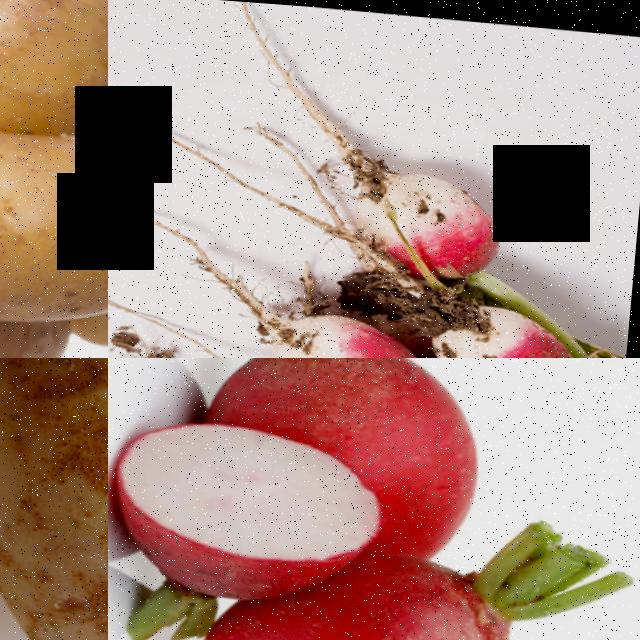potato: (0, 358, 108, 640), (0, 116, 108, 328), (0, 0, 108, 142)
radishes: (108, 133, 625, 358), (108, 358, 517, 571), (207, 548, 547, 640)
